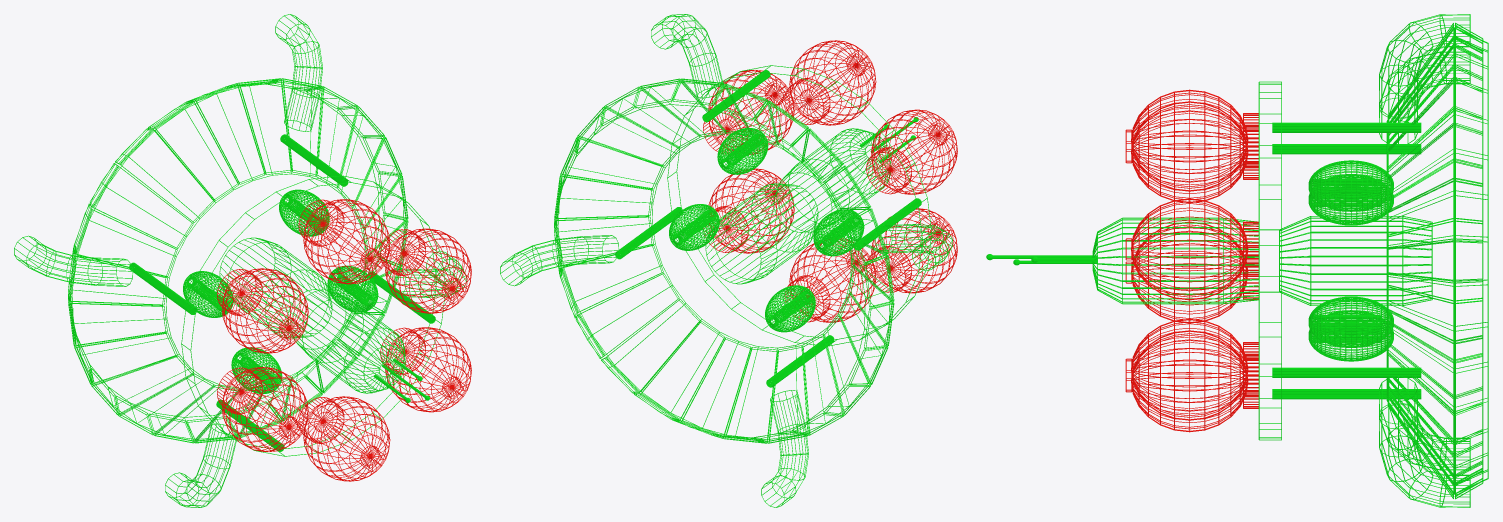
Rendered from powerplant-highlight-six-fusion-reactor-cells.glb.
3 views of the same model, side by side, from view 1: azimuth 30°, elevation 25°; view 2: azimuth 150°, elevation 25°; view 3: azimuth 270°, elevation 25° (orthographic). The views are drawn at different scales.
Visible parts, largest first — view 1: six-fusion-reactor-cells technical wire, chassis technical wire, asteros-mini-mining-facility technical wire, four-waste-ore-pipes technical wire, control-computer-and-antennae technical wire; view 2: chassis technical wire, six-fusion-reactor-cells technical wire, asteros-mini-mining-facility technical wire, four-waste-ore-pipes technical wire, control-computer-and-antennae technical wire; view 3: chassis technical wire, six-fusion-reactor-cells technical wire, asteros-mini-mining-facility technical wire, four-waste-ore-pipes technical wire, control-computer-and-antennae technical wire.
Boxes of the visible parts, bbox=[...] form: six-fusion-reactor-cells technical wire: bbox=[217, 199, 471, 481]; chassis technical wire: bbox=[68, 78, 445, 456]; asteros-mini-mining-facility technical wire: bbox=[183, 189, 378, 393]; four-waste-ore-pipes technical wire: bbox=[14, 14, 466, 507]; control-computer-and-antennae technical wire: bbox=[290, 289, 429, 402]; chassis technical wire: bbox=[554, 65, 931, 443]; six-fusion-reactor-cells technical wire: bbox=[703, 40, 957, 322]; asteros-mini-mining-facility technical wire: bbox=[669, 128, 864, 332]; four-waste-ore-pipes technical wire: bbox=[500, 14, 952, 507]; control-computer-and-antennae technical wire: bbox=[776, 117, 918, 232]; chassis technical wire: bbox=[1258, 22, 1488, 499]; six-fusion-reactor-cells technical wire: bbox=[1125, 89, 1258, 432]; asteros-mini-mining-facility technical wire: bbox=[1279, 160, 1432, 361]; four-waste-ore-pipes technical wire: bbox=[1379, 14, 1470, 507]; control-computer-and-antennae technical wire: bbox=[986, 217, 1258, 304].
Size of the model in its own units: 3.14 by 3.14 by 2.57.
